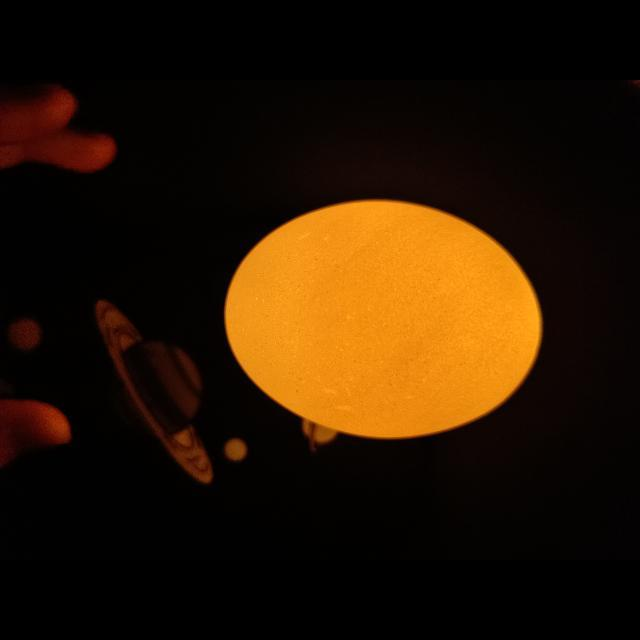AA - Premium: (225, 200, 541, 439)
